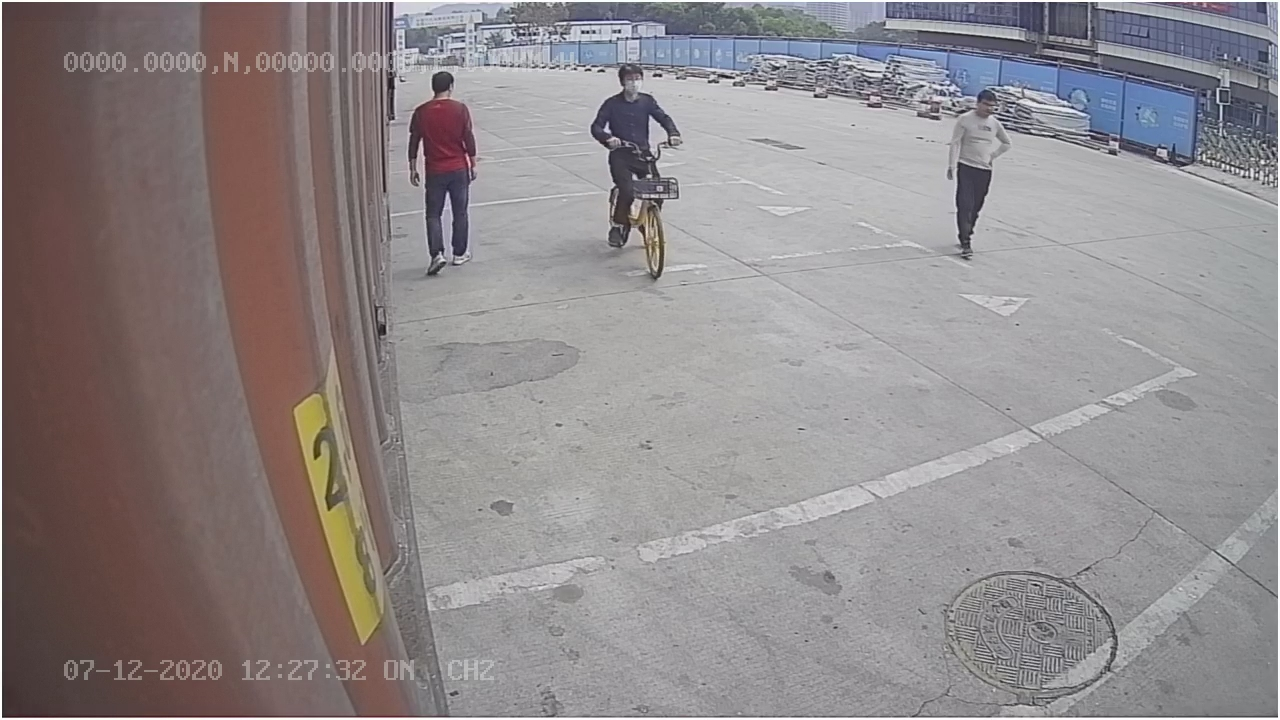person: (401, 67, 483, 276)
